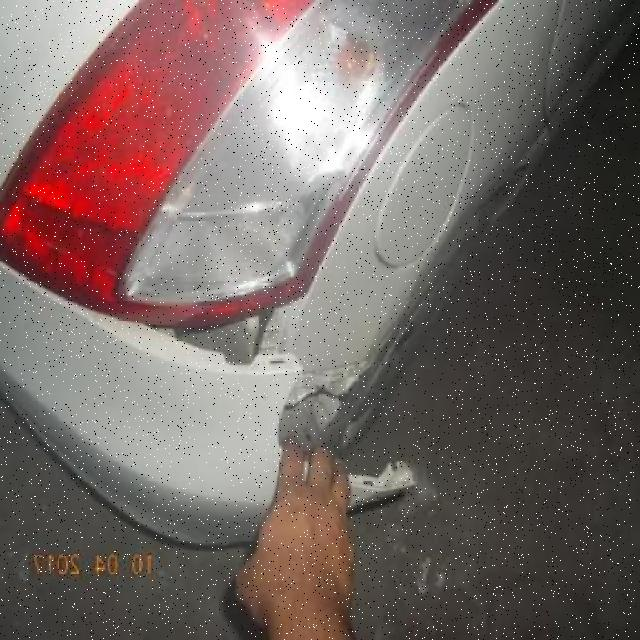damage: (135, 307, 411, 488)
